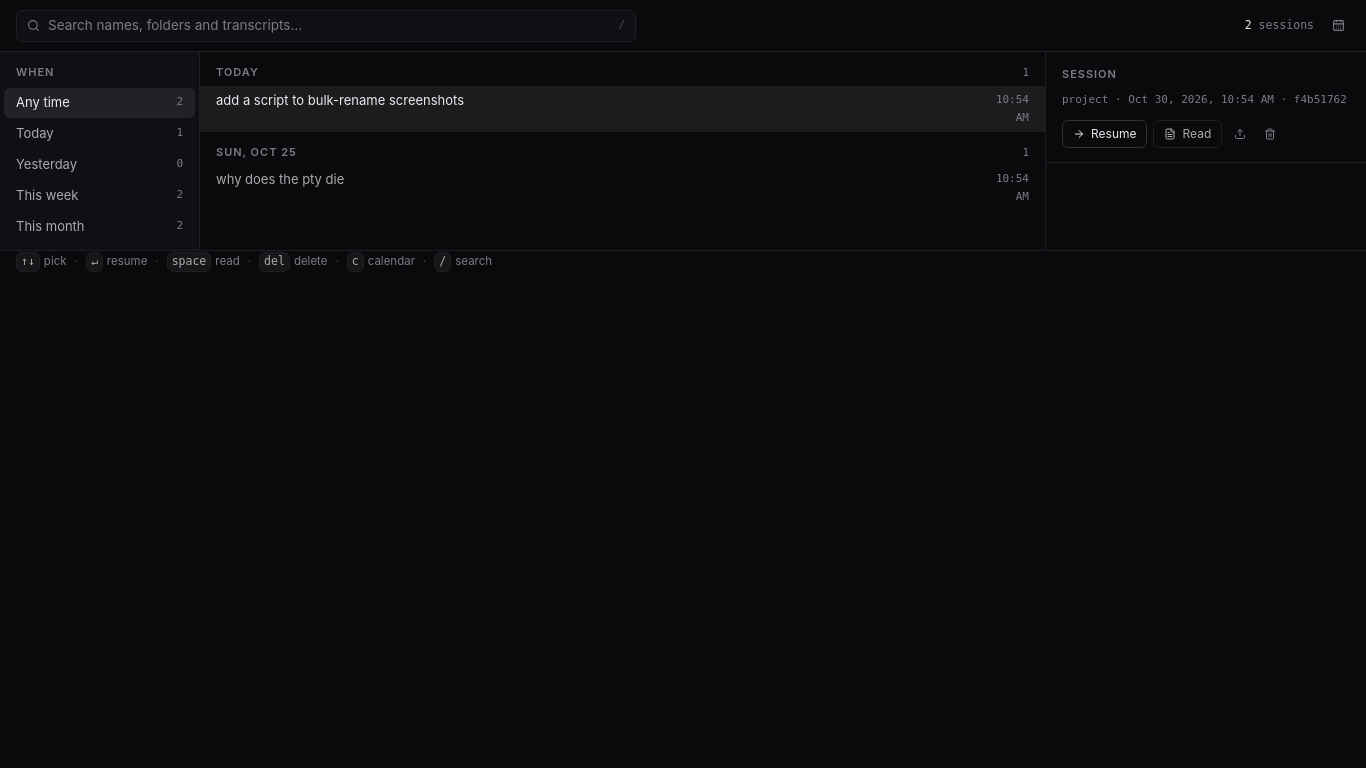
Test case: SessionHistoryPanel › the calendar › scopes the list to the day you click, and back
Expected: the text "add a script to bulk-rename screenshots" is shown, x1=216 y1=92 x2=464 y2=108
Step 1. Click the button titled "Show the calendar (c)" → [1338, 26], box x1=1326 y1=14 x2=1350 y2=38
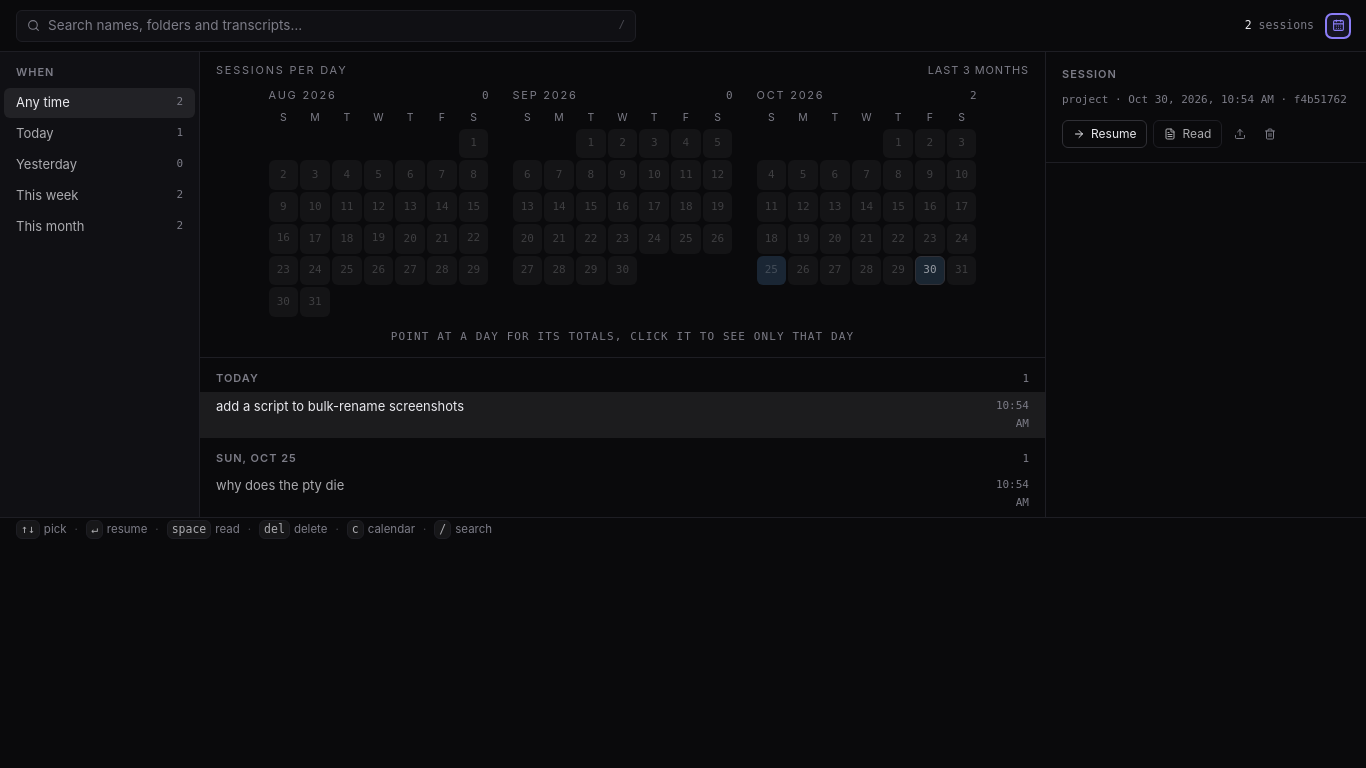
Step 2. Click the button "25" → [771, 270], box x1=756 y1=256 x2=786 y2=285
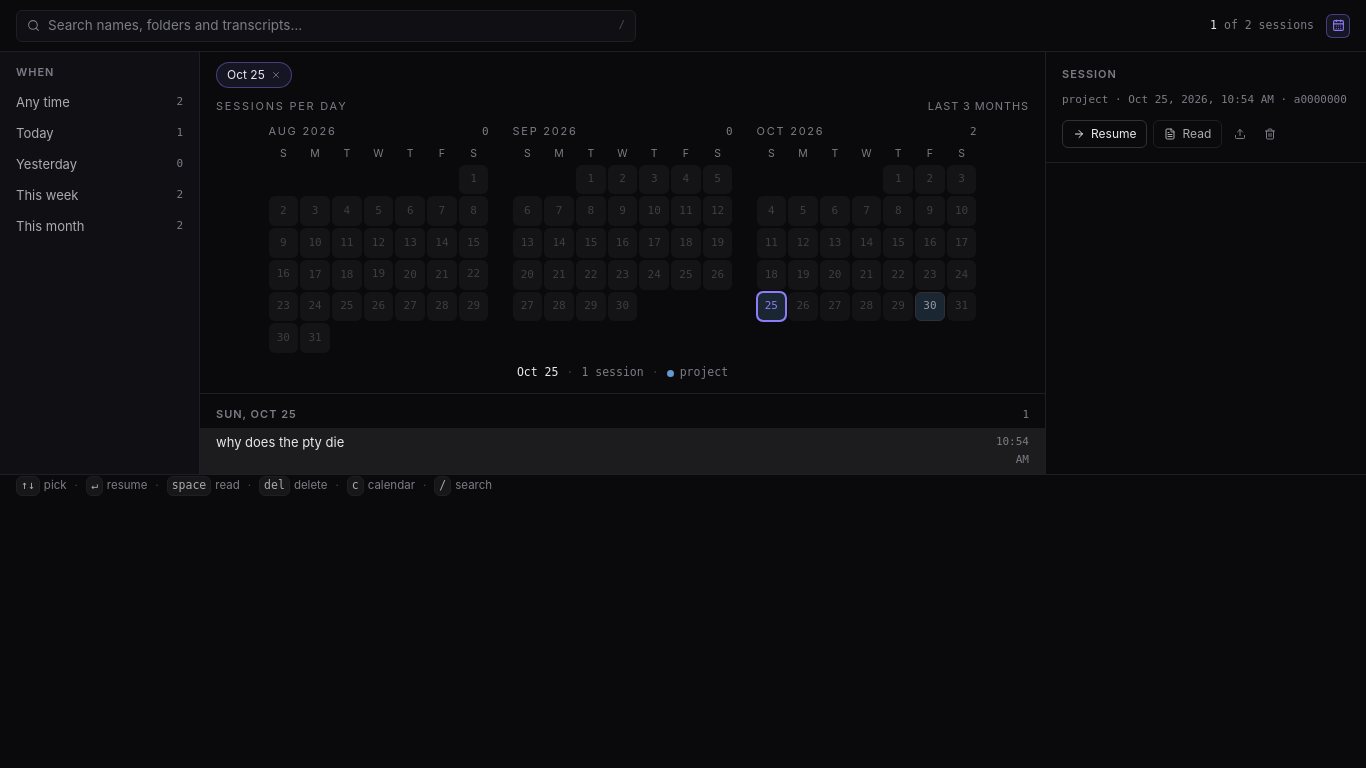
Expected: the text "why does the pty die" is shown, x1=216 y1=434 x2=344 y2=450
Result: the option "add a script to bulk-rename screenshots" is gone
Result: the button titled "Show every date" is shown
The chip clears the day — the grid it was picked from never filtered itself.
Step 3. Click the button titled "Show every date" → [254, 75], box x1=216 y1=62 x2=292 y2=88
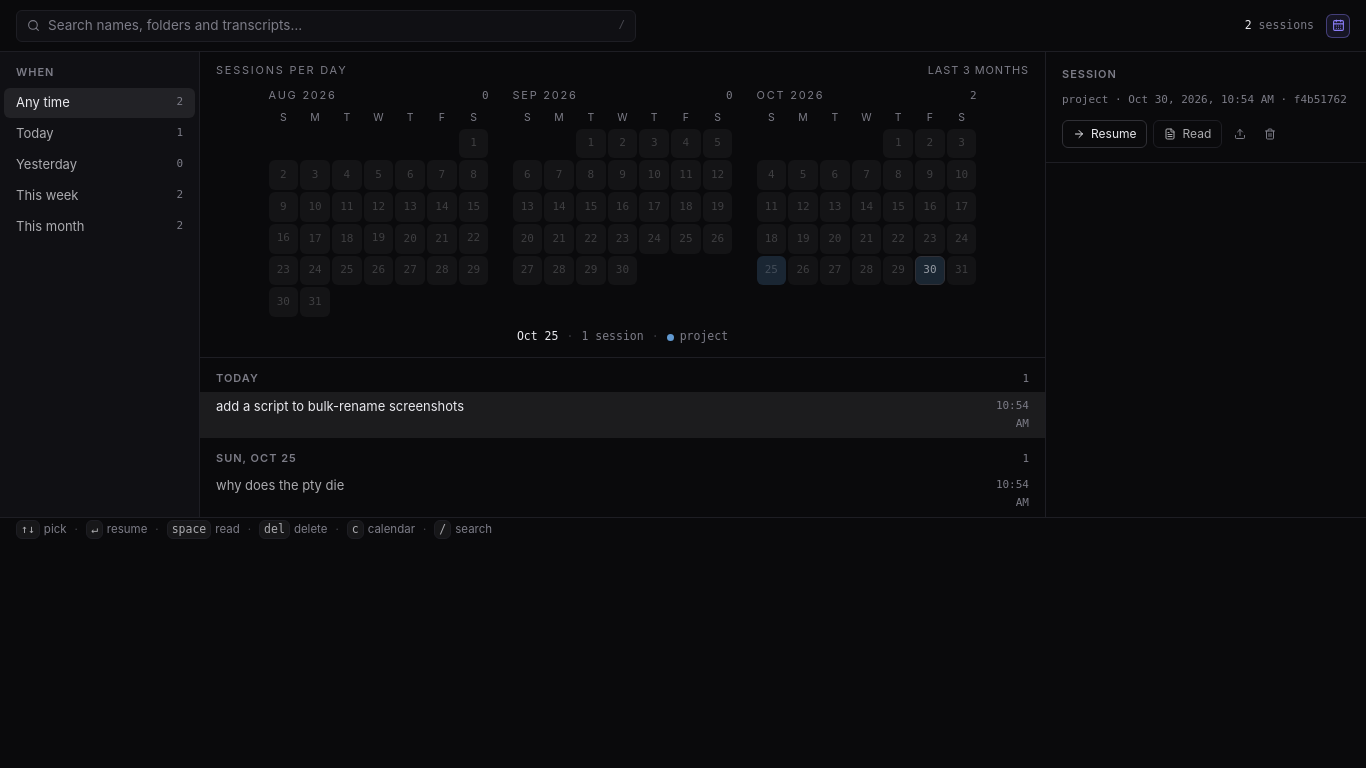
Result: the text "add a script to bulk-rename screenshots" is shown at x1=216 y1=398 x2=464 y2=414
